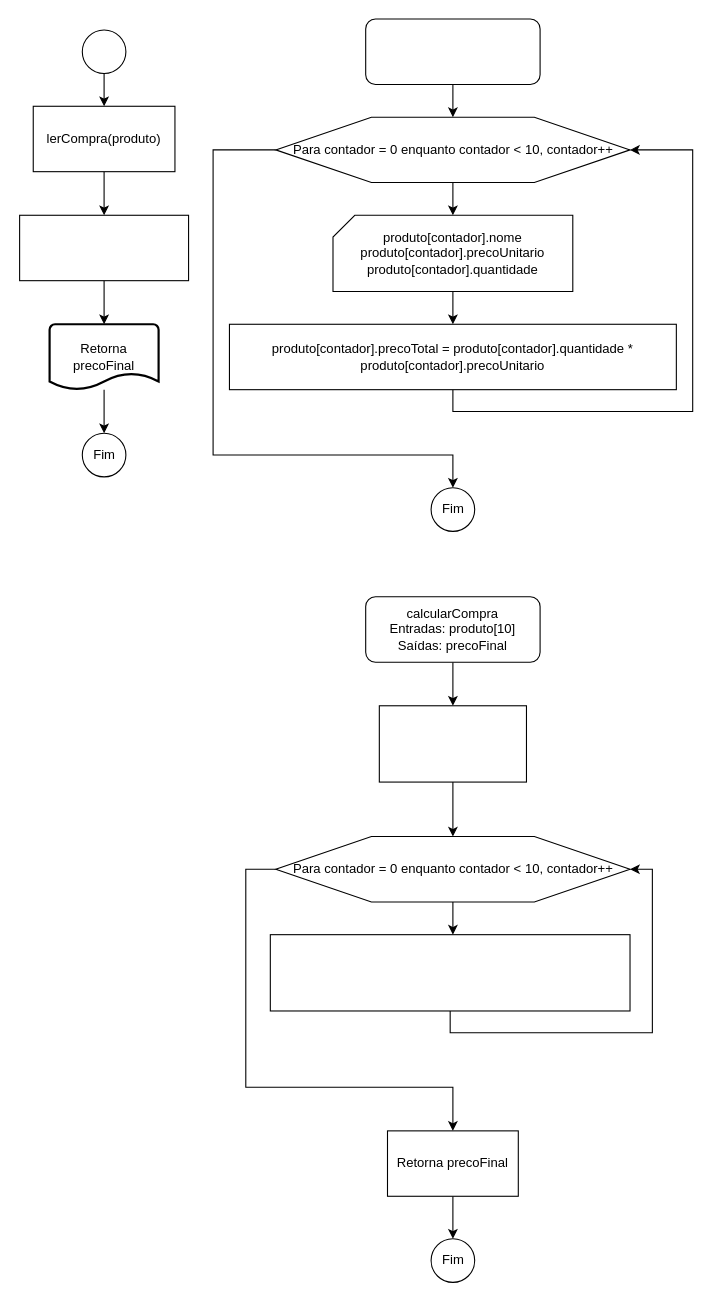
Image size: 720x1301. Some labels were removed from this diagram. Here are the shapes that lost their labels. From the top down, the box of each, then its label:
(81, 29, 126, 74): Início
(365, 18, 540, 84): lerCompra Entradas: produto[10] Saídas: não tem
(19, 214, 189, 281): calcularCompra(produto)
(378, 705, 526, 782): precoFinal = 0
(269, 934, 630, 1011): precoFinal += produto[contador].precoTotal
